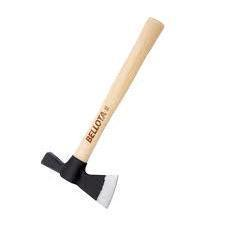machado: (41, 18, 161, 207)
